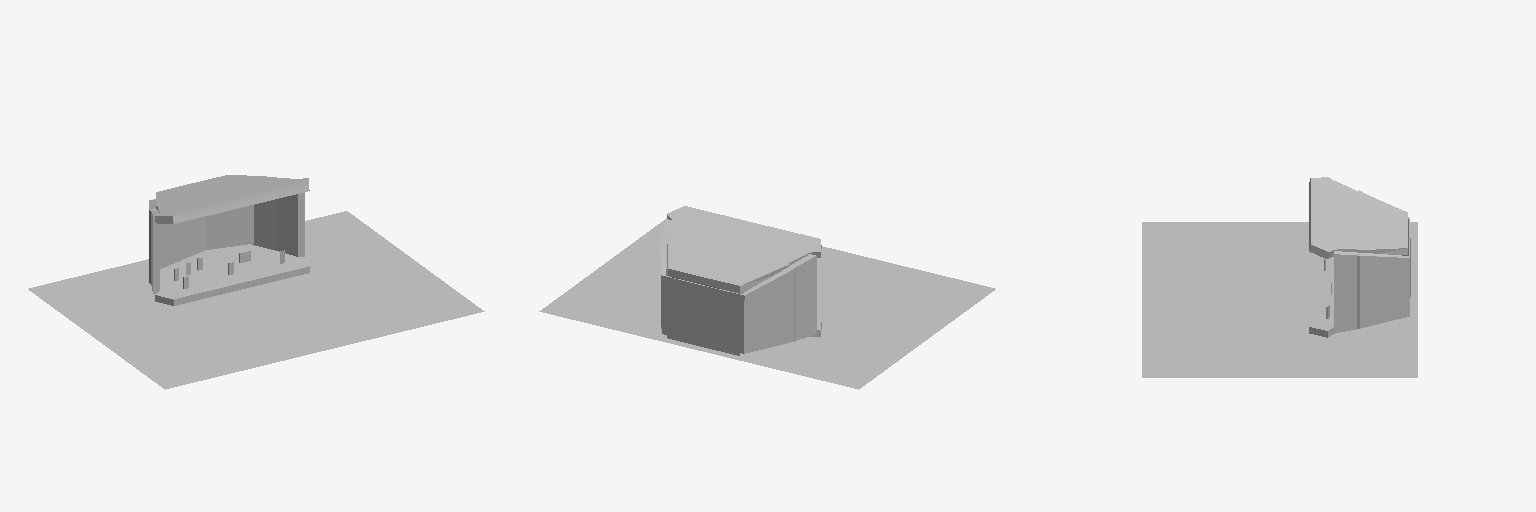
Rendered from barbican stage.obj.
3 views of the same model, side by side, from view 1: azimuth 30°, elevation 25°; view 2: azimuth 150°, elevation 25°; view 3: azimuth 270°, elevation 25° (orthographic).
Visible parts, largest first — view 1: barbican_plans, Plane, Plane.001, Plane.002, Plane.010_Plane.011, Plane.011_Plane.012; view 2: barbican_plans, Plane.002, Plane.001; view 3: barbican_plans, Plane.001, Plane.002, Plane.
Boxes of the visible parts, x1=… form: barbican_plans: x1=28, y1=211, x2=484, y2=389; Plane: x1=155, y1=244, x2=309, y2=305; Plane.001: x1=155, y1=175, x2=309, y2=223; Plane.002: x1=149, y1=192, x2=304, y2=294; Plane.010_Plane.011: x1=160, y1=216, x2=205, y2=268; Plane.011_Plane.012: x1=206, y1=205, x2=253, y2=249; barbican_plans: x1=539, y1=218, x2=995, y2=389; Plane.002: x1=661, y1=219, x2=816, y2=353; Plane.001: x1=667, y1=206, x2=821, y2=292; barbican_plans: x1=1142, y1=222, x2=1417, y2=377; Plane.001: x1=1309, y1=177, x2=1407, y2=258; Plane.002: x1=1334, y1=180, x2=1410, y2=332; Plane: x1=1309, y1=257, x2=1355, y2=337.
Size of the model in its own units: 45.69 by 12.25 by 34.08.